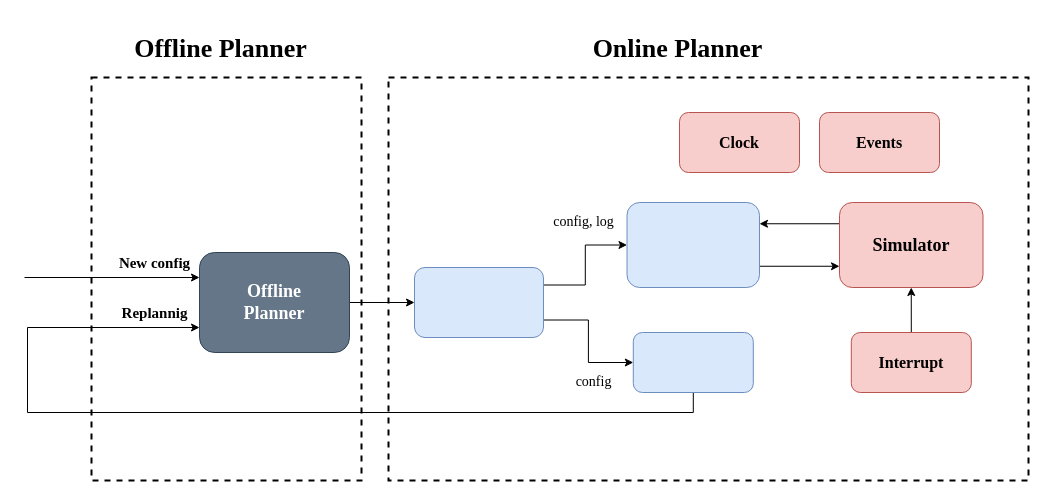
This 1047x498 diagram has some shape labels left out. The shapes that lost their labels are listed below. From the top down, each one's centre as x and y in pixels, then its label:
At (693,245): "Controller".
At (479,302): "Program Manager".
At (692,362): "State".
